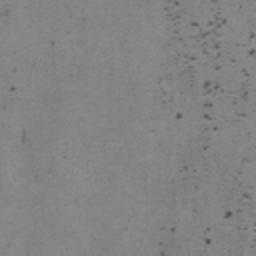Oxide scale of temperature system: (203, 80, 224, 94), (214, 12, 227, 29), (192, 31, 211, 39), (241, 82, 249, 101), (157, 74, 172, 84), (21, 130, 29, 144), (0, 8, 10, 17), (223, 210, 233, 219), (202, 101, 213, 108)
